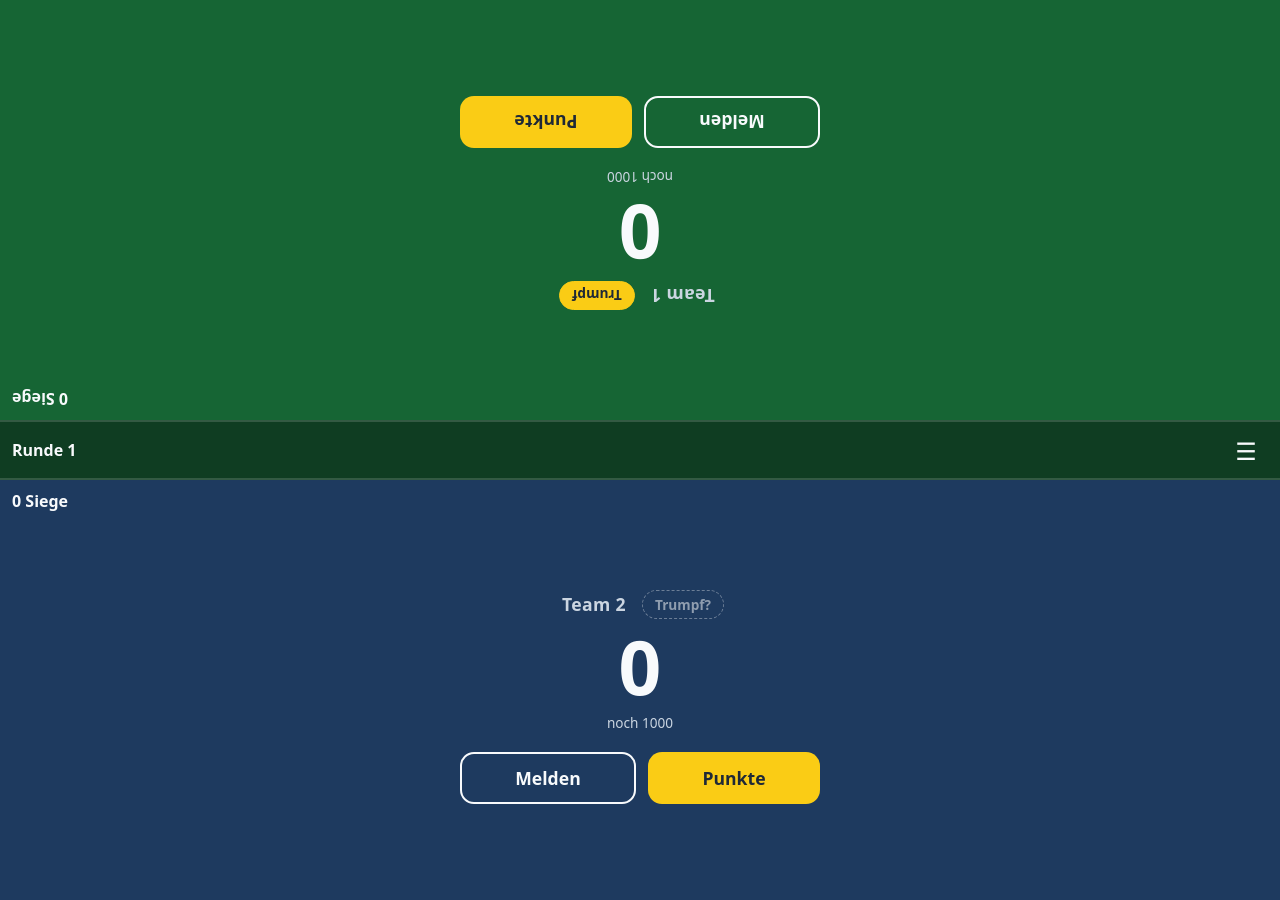
Scenario: App › opens the rules from the menu and returns to the menu
Click the button named "Menü" at [1246, 450], box [1224,428,1268,472]
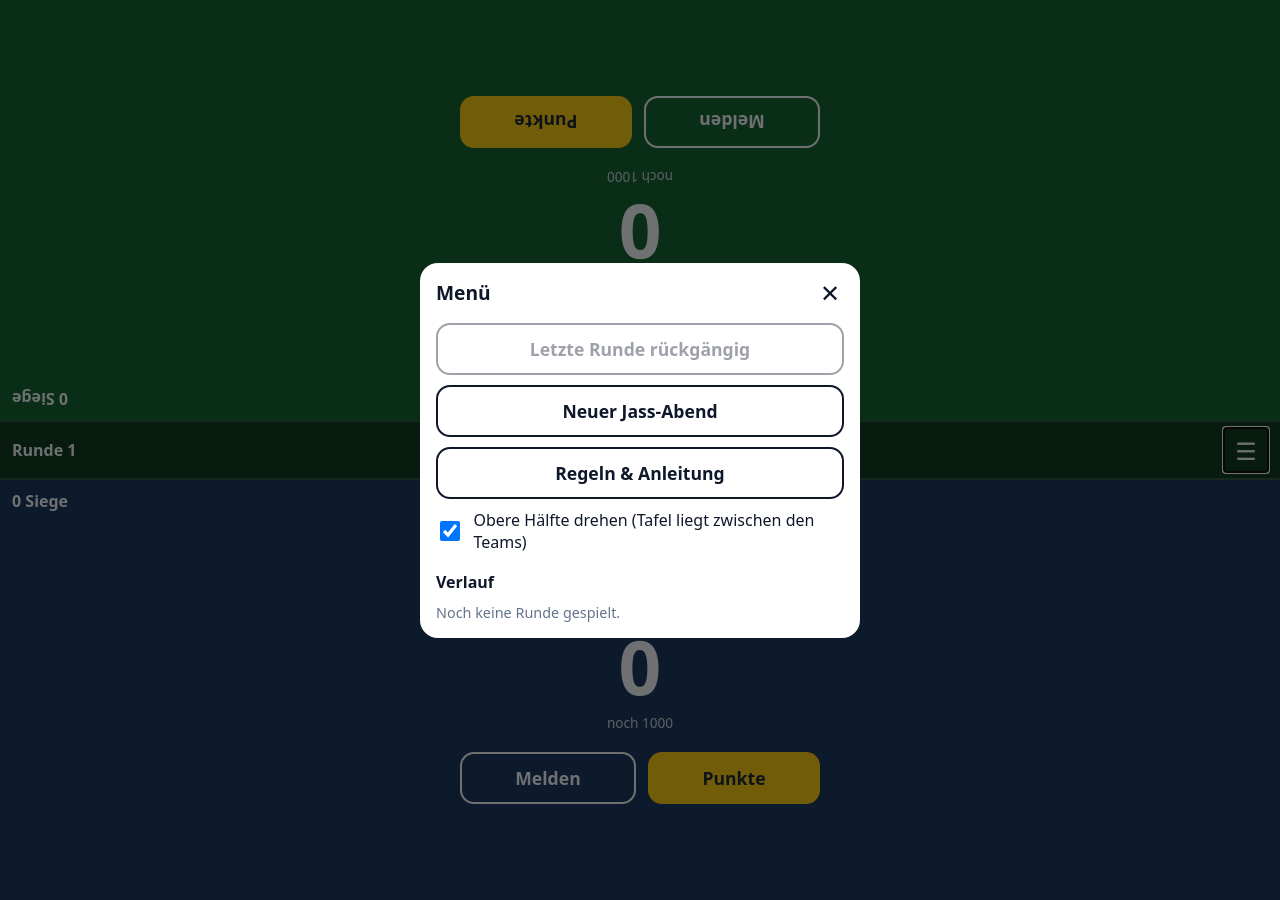
Click the button "Regeln & Anleitung" at [640, 472], box [436,446,844,498]
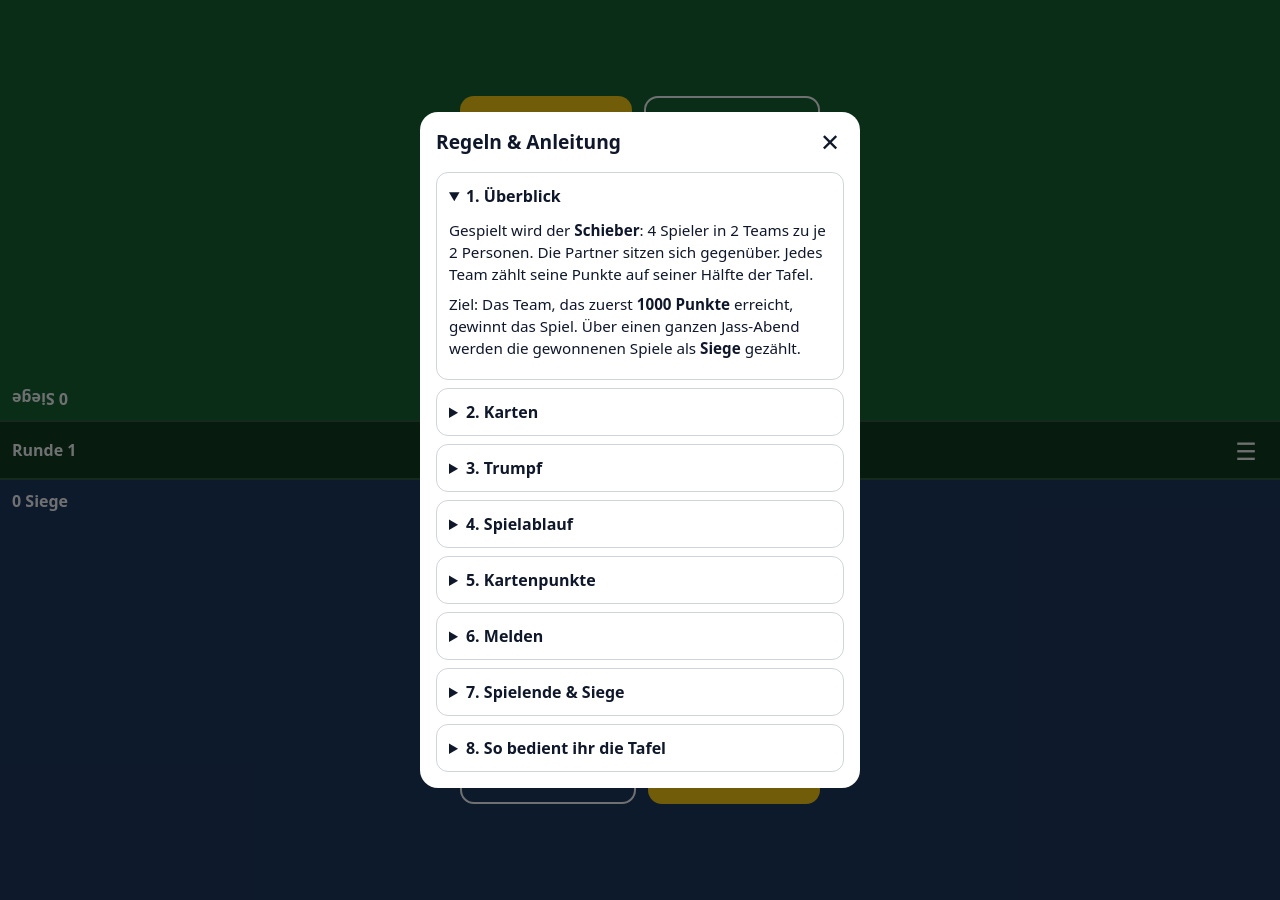
Expected: the dialog "Regeln & Anleitung" is shown, [420,112,860,788]
Click the button named "Schliessen" at [830, 142], box [808,120,852,164]
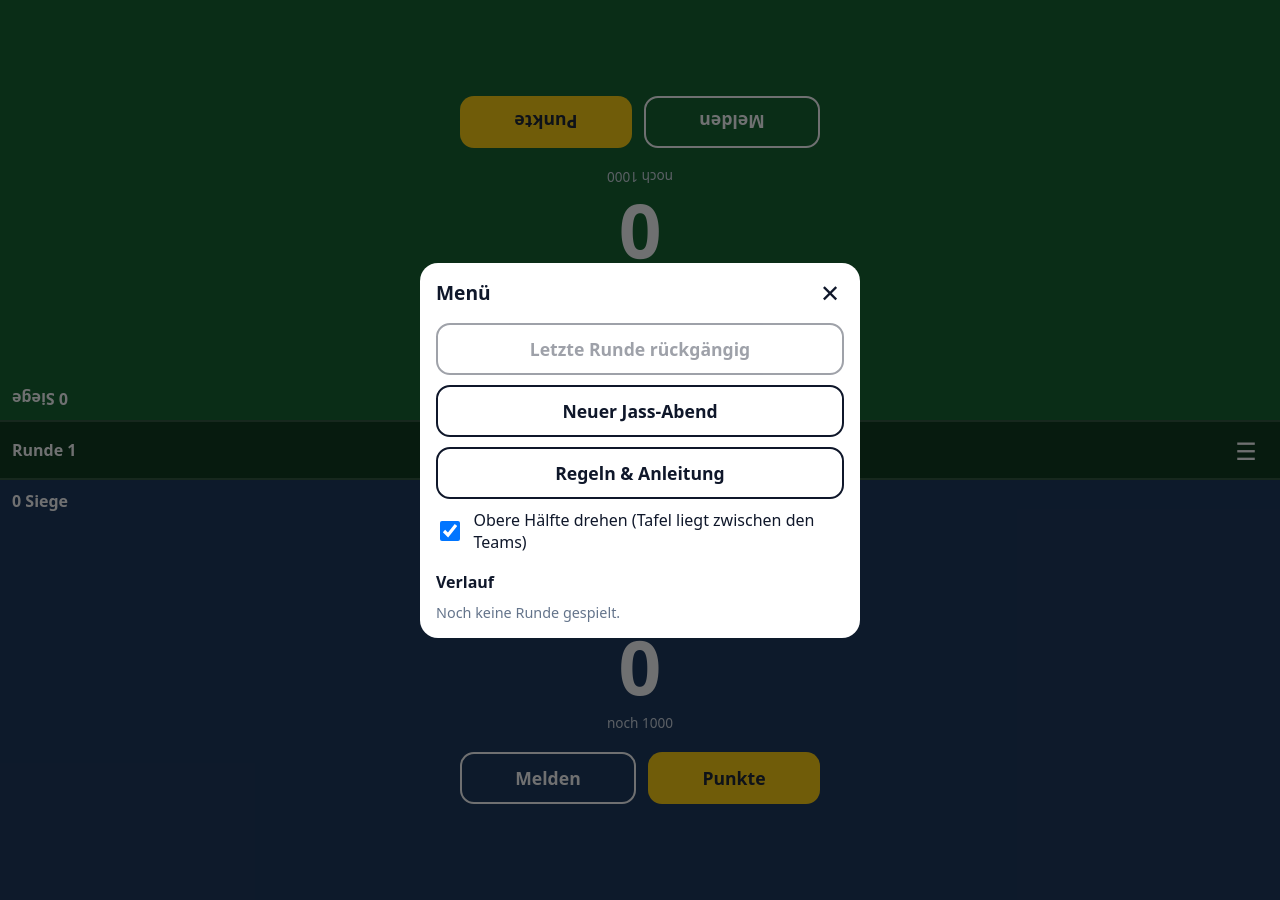
Expected: the dialog "Menü" is shown, [420,262,860,638]
